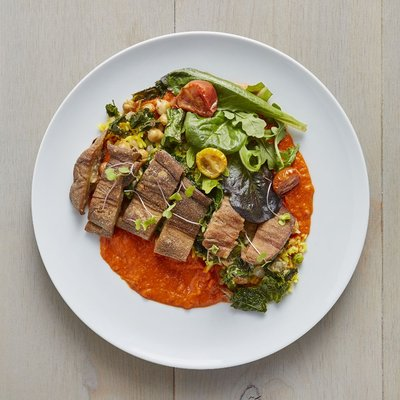curry: (1, 0, 392, 386)
